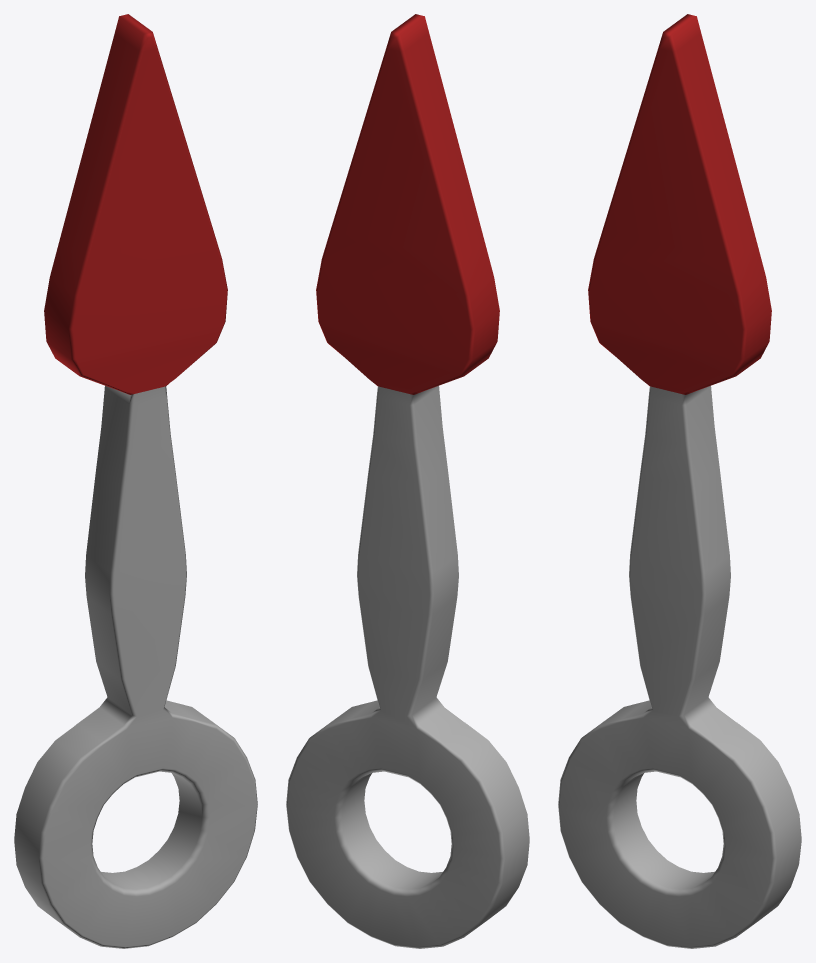
The model's file is HourHand_low.fbx.
3 views of the same model, side by side, from view 1: azimuth 30°, elevation 25°; view 2: azimuth 150°, elevation 25°; view 3: azimuth 330°, elevation 25° (orthographic).
Parts seen in each view (by area): view 1: hourhand_low; view 2: hourhand_low; view 3: hourhand_low.
Part boxes in pixels (box(x1,y1,x2,y2)): hourhand_low: box(14, 14, 257, 948); hourhand_low: box(286, 14, 529, 948); hourhand_low: box(558, 14, 801, 948).
Bounding box in the file's own units: 251 × 1000 × 55.63.
